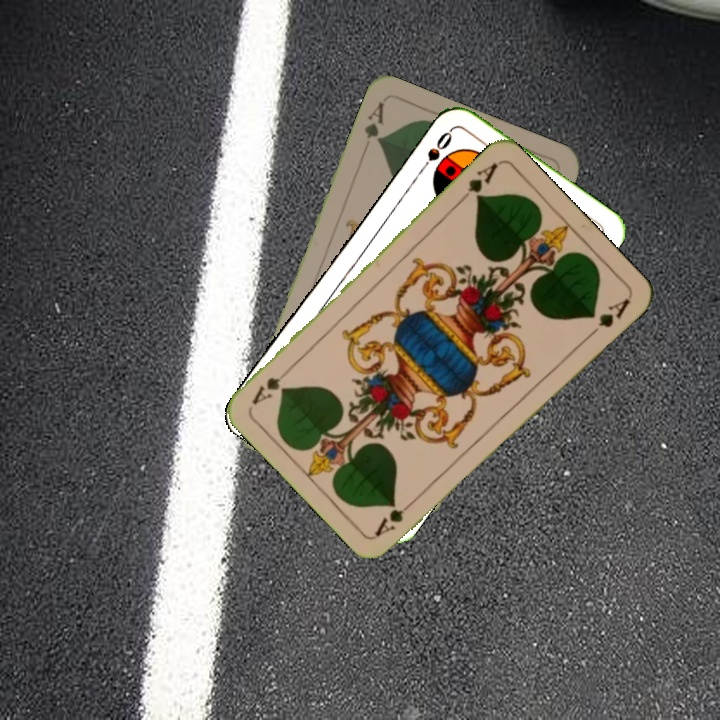GA: (455, 158, 501, 206), (371, 494, 420, 539), (359, 98, 387, 146)
SO: (414, 126, 455, 177)
